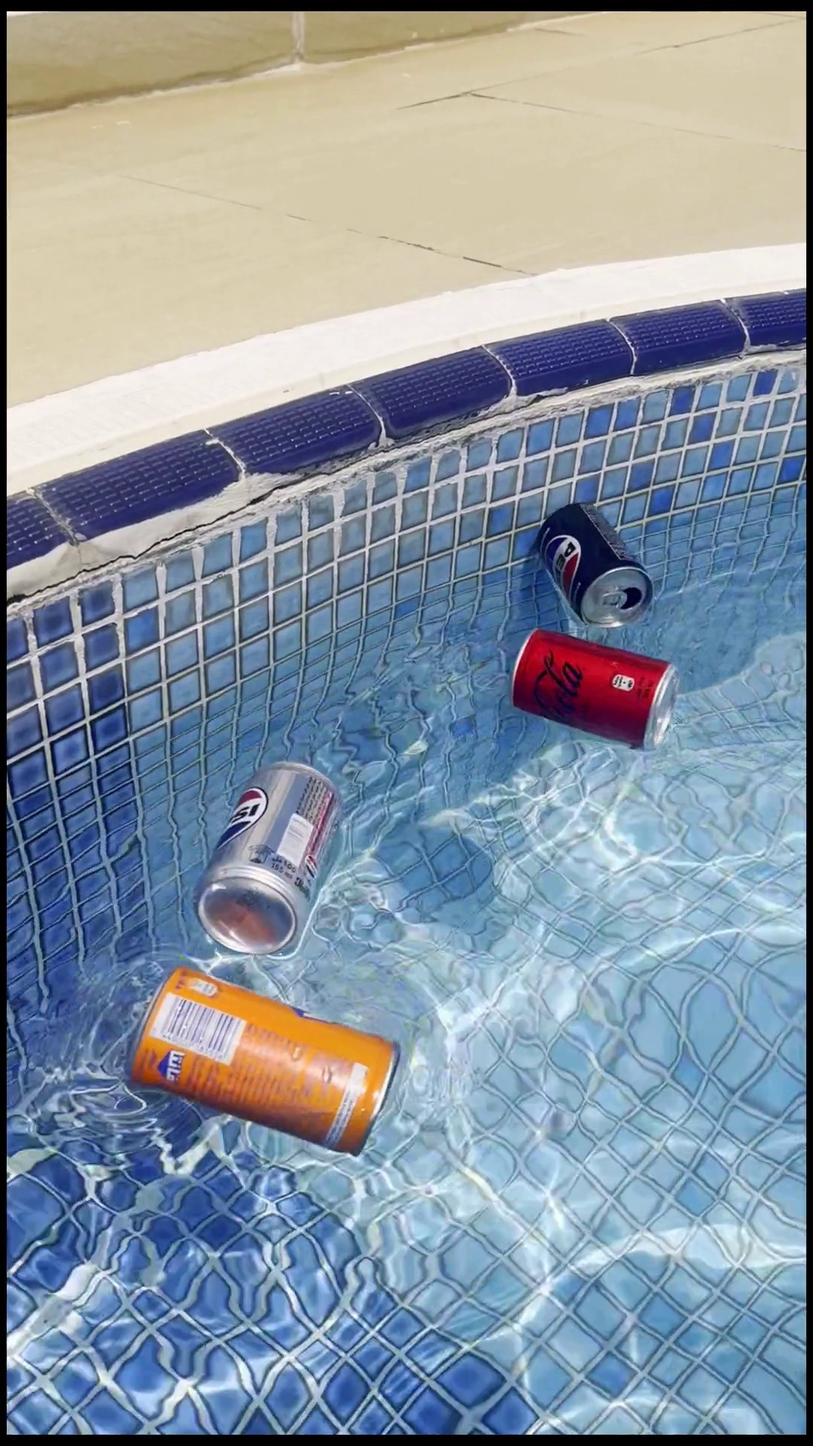debris: (121, 930, 401, 1181), (188, 724, 343, 980), (506, 603, 677, 770), (520, 482, 654, 658)
